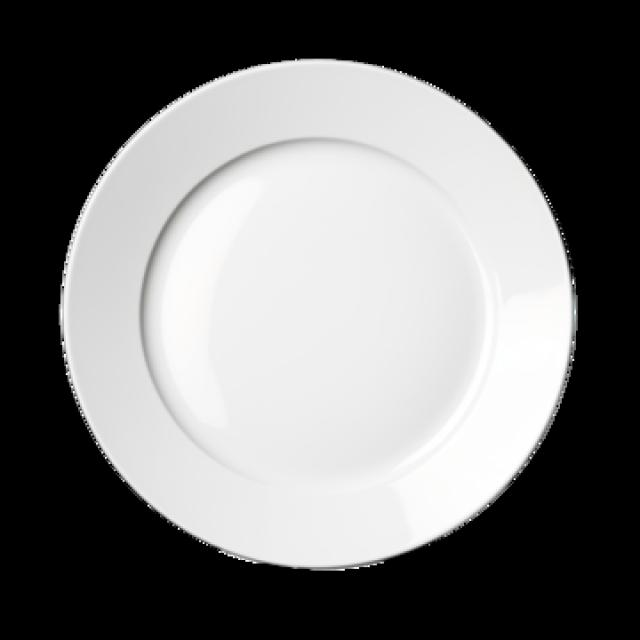Piring: (62, 41, 593, 588)
